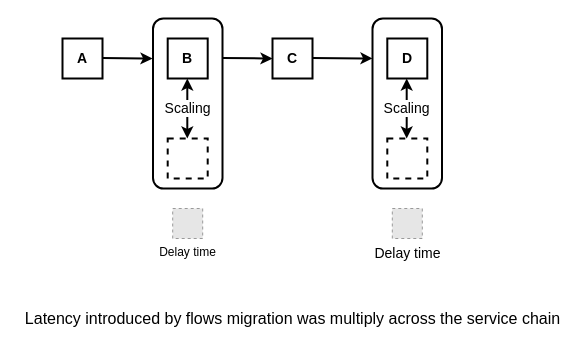
Image size: 584x345. Some labels were removed from this diagram. Grey dashed boxes stand in for pictures. Each missing label, with the centre of its shape:
B': point 187,158
D': point 407,158
